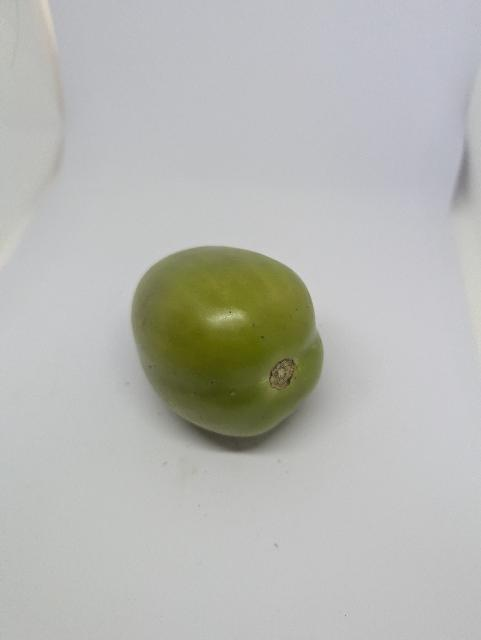green: (115, 227, 337, 459)
